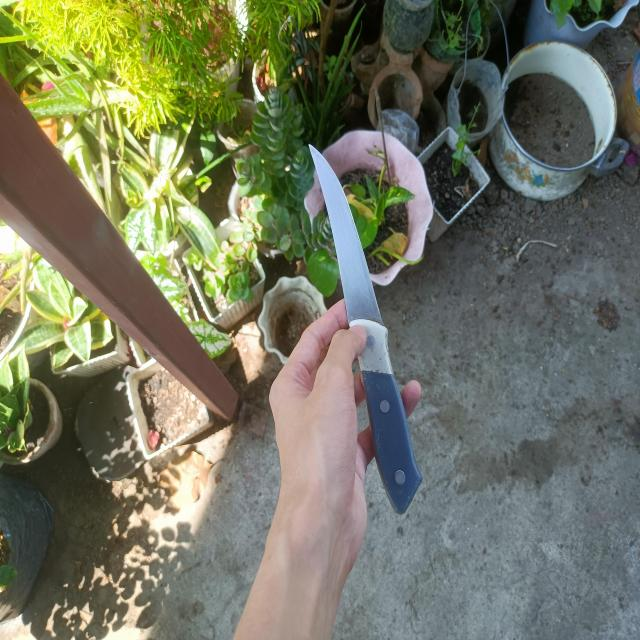knife: (308, 143, 422, 514)
